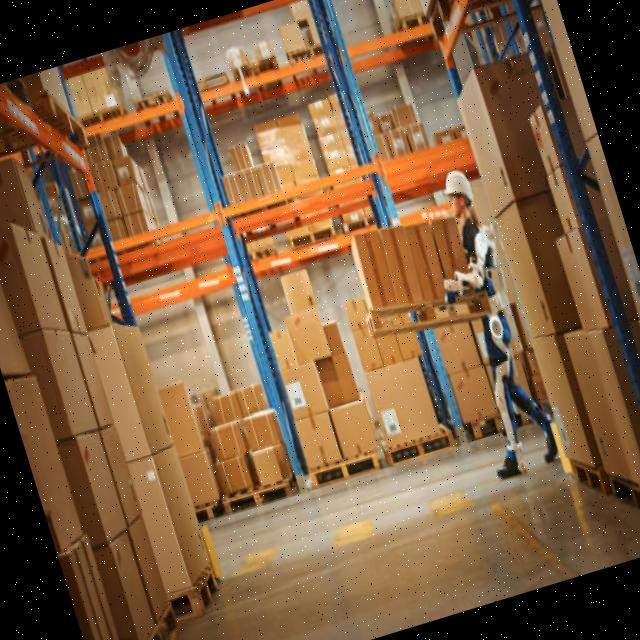Wooden-Pallets: (184, 545, 236, 640), (218, 472, 297, 522), (379, 421, 462, 468), (306, 448, 382, 491), (284, 212, 337, 254), (571, 455, 608, 499), (608, 465, 640, 513)
